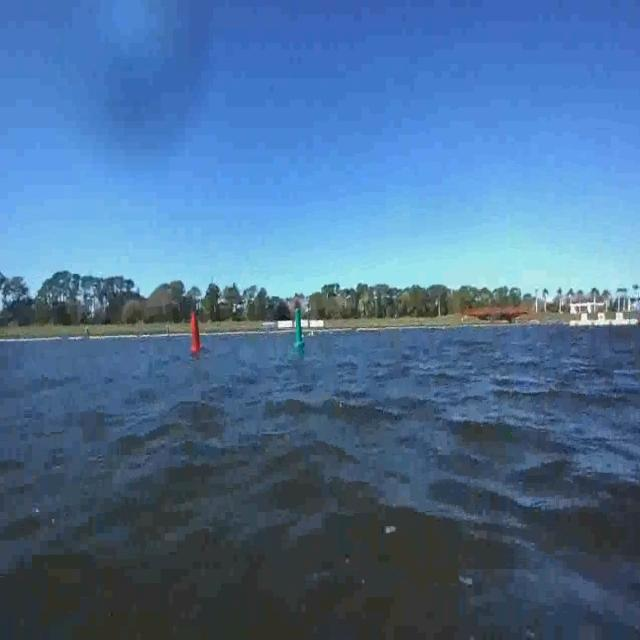green-column-buoy: (288, 301, 310, 356)
red-column-buoy: (187, 302, 205, 362)
